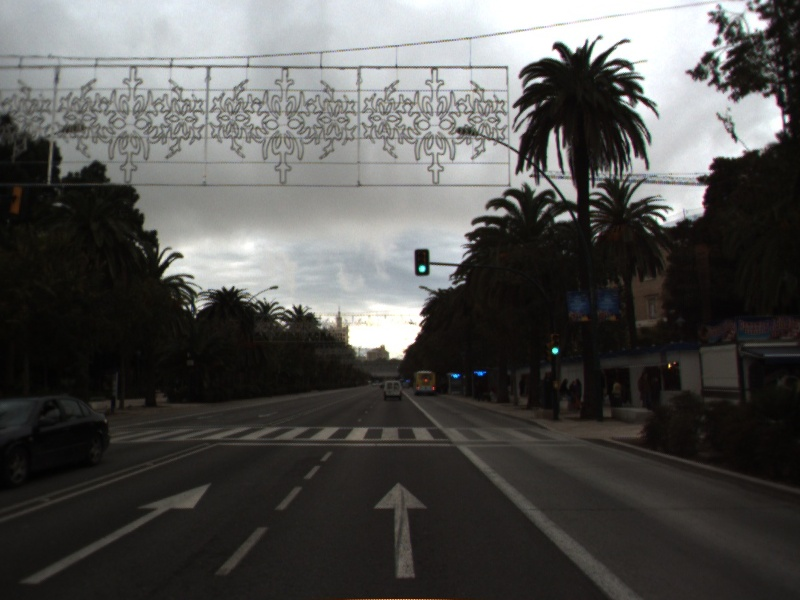STRAIGHT: (18, 481, 214, 586), (372, 480, 429, 580)
